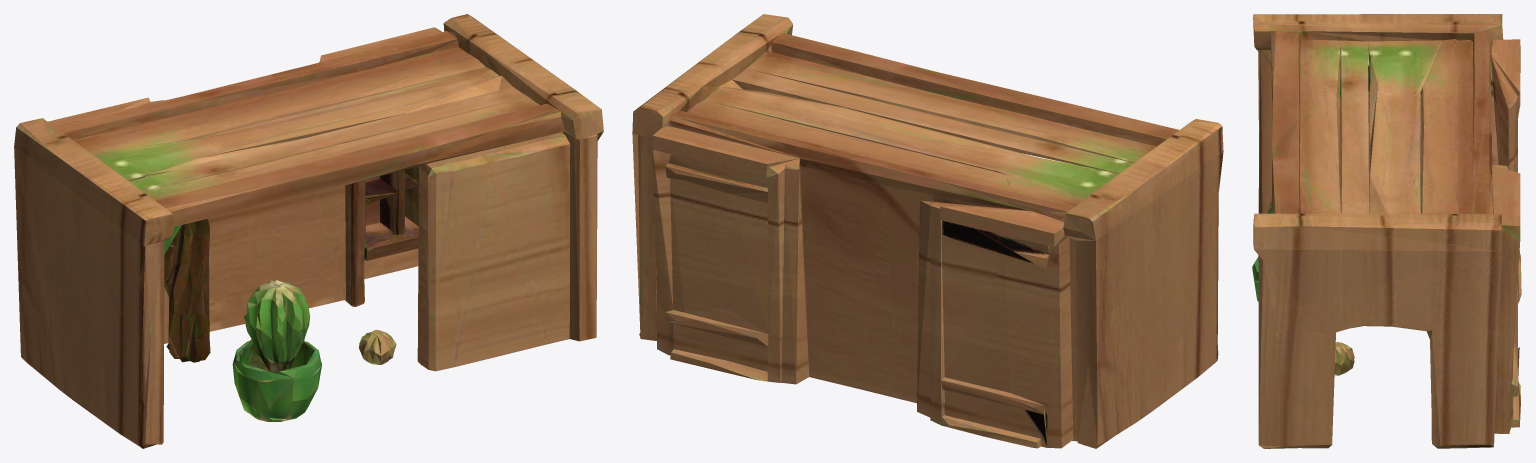
Rendered from cactus.glb.
The picture shows the model from 3 angles, left to right: view 1: azimuth 30°, elevation 25°; view 2: azimuth 150°, elevation 25°; view 3: azimuth 270°, elevation 25°; orthographic projection. The views are drawn at different scales.
Size of the model in its own units: 1.9 by 0.9784 by 1.
1 material, 1 textured.
